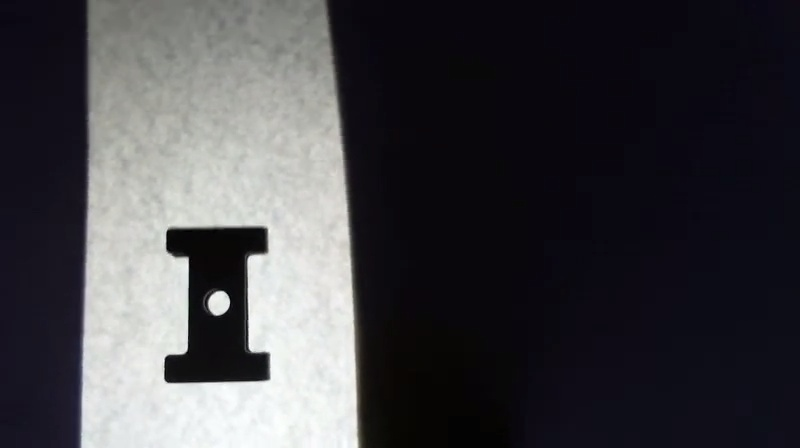O002: (157, 219, 276, 391)
